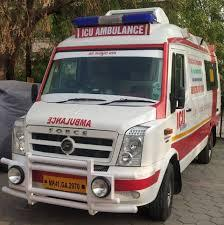Emergency-Vehicles: (1, 3, 224, 225)
